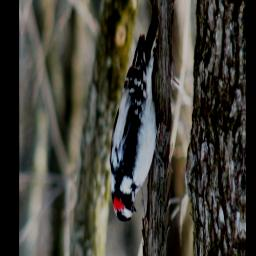Woodpecker: (106, 0, 165, 223)
